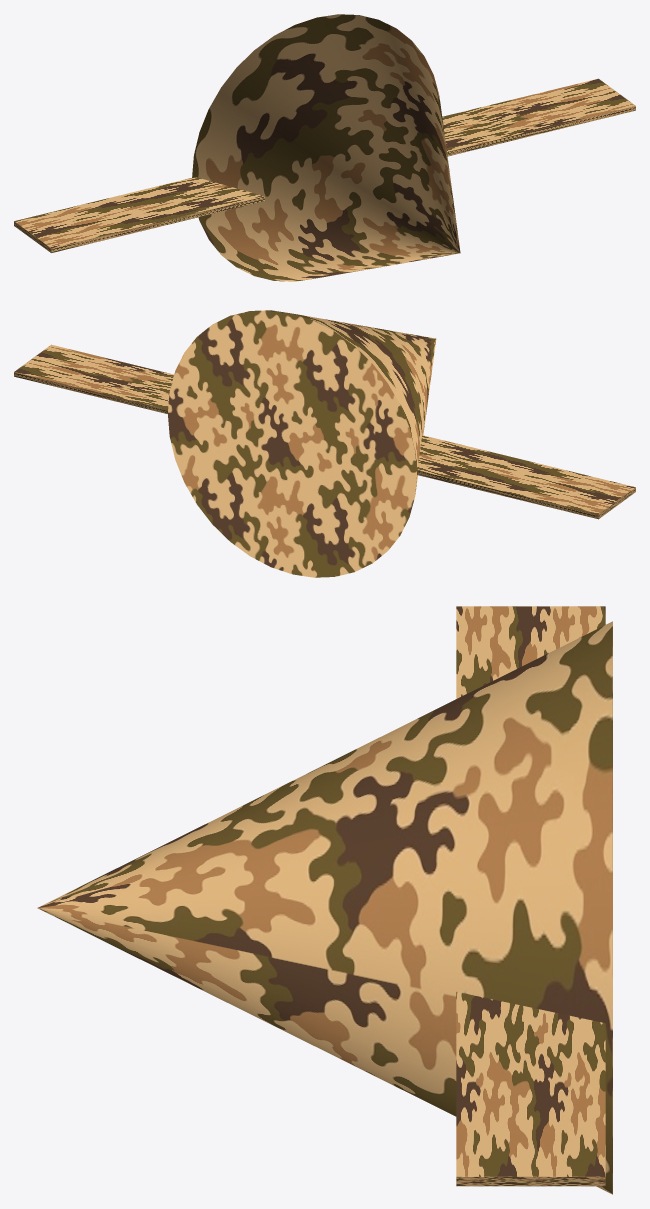
Rendered from zylinderfluegel.obj.
3 views of the same model, one above another, from view 1: azimuth 30°, elevation 25°; view 2: azimuth 150°, elevation 25°; view 3: azimuth 270°, elevation 25° (orthographic). The views are drawn at different scales.
Visible parts, largest first — view 1: Kegel, Würfel; view 2: Kegel, Würfel; view 3: Kegel, Würfel.
Boxes of the visible parts, x1,y1,x2,y2 form: Kegel: [192, 14, 460, 281]; Würfel: [14, 78, 635, 252]; Kegel: [167, 310, 436, 577]; Würfel: [14, 344, 635, 519]; Kegel: [37, 621, 612, 1194]; Würfel: [456, 606, 605, 1186].
Size of the model in its own units: 28.14 by 12 by 12.
Materials: 1 (1 with a texture image).
